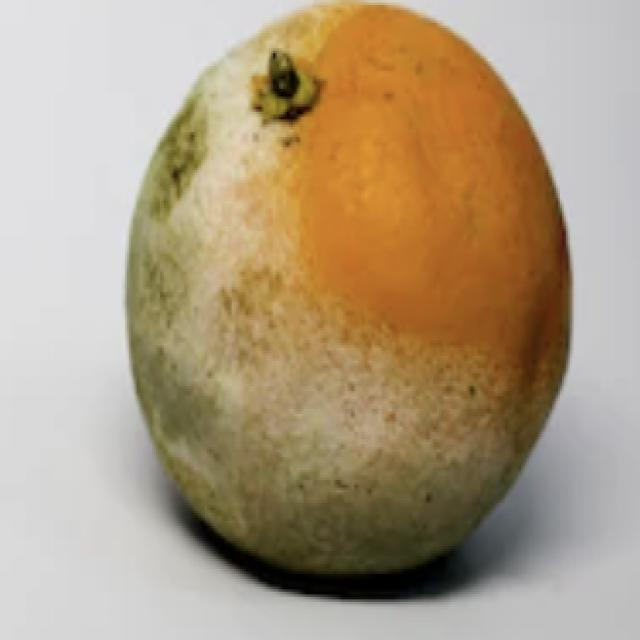rotten-orange: (121, 3, 567, 577)
